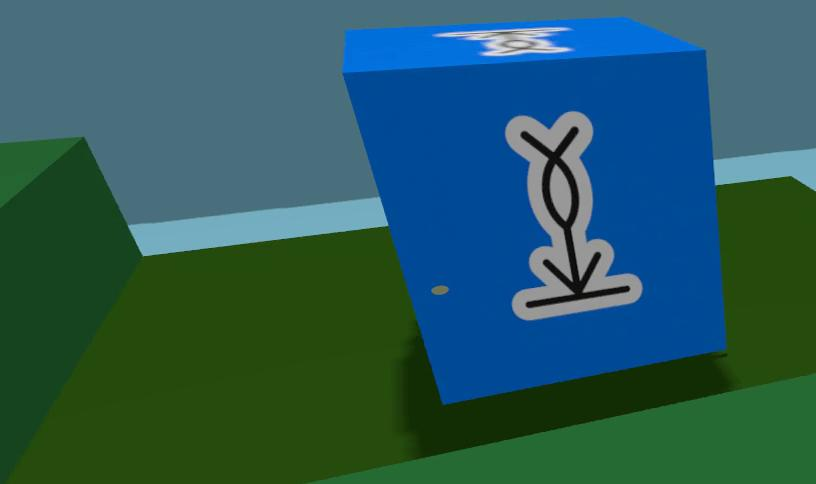KFS_REAL: (342, 17, 725, 402), (506, 111, 642, 319), (436, 27, 570, 55)
